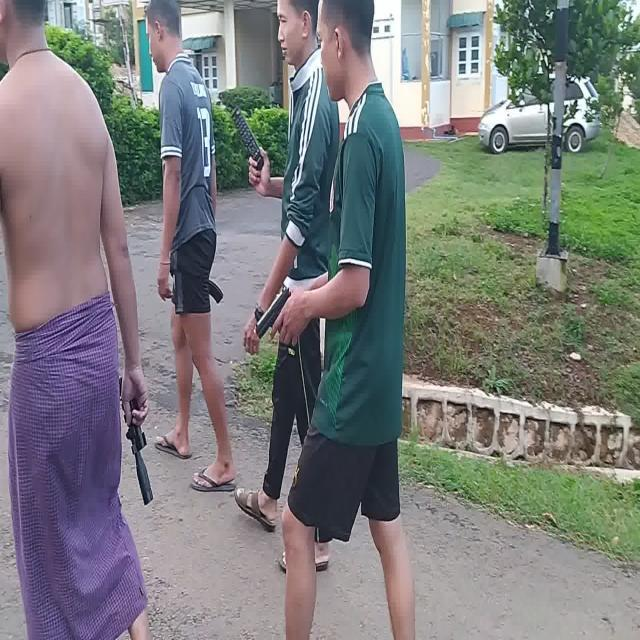gun: (255, 288, 292, 336)
